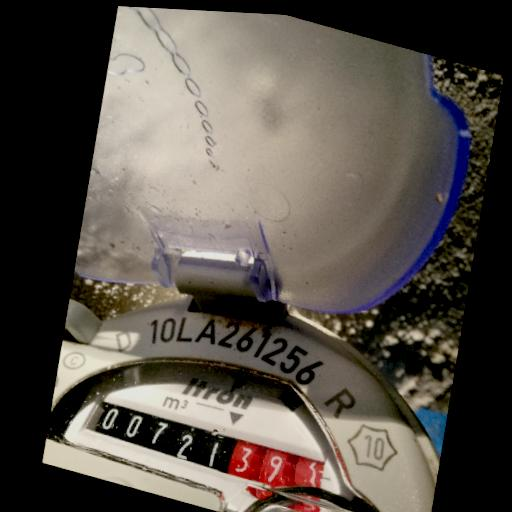0: (112, 401, 156, 453), (90, 395, 132, 445)
1: (193, 425, 241, 478)
2: (161, 414, 212, 471)
3: (224, 434, 271, 487), (287, 454, 329, 497)
7: (135, 407, 181, 461)
9: (255, 443, 301, 496)
border_water_meter_number: (85, 389, 335, 506)
